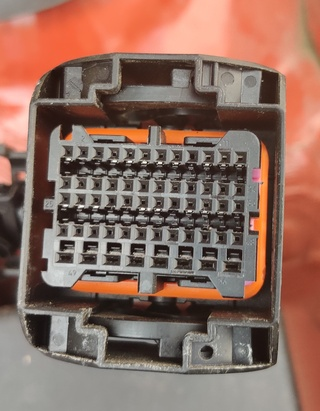connector: (17, 52, 286, 375)
